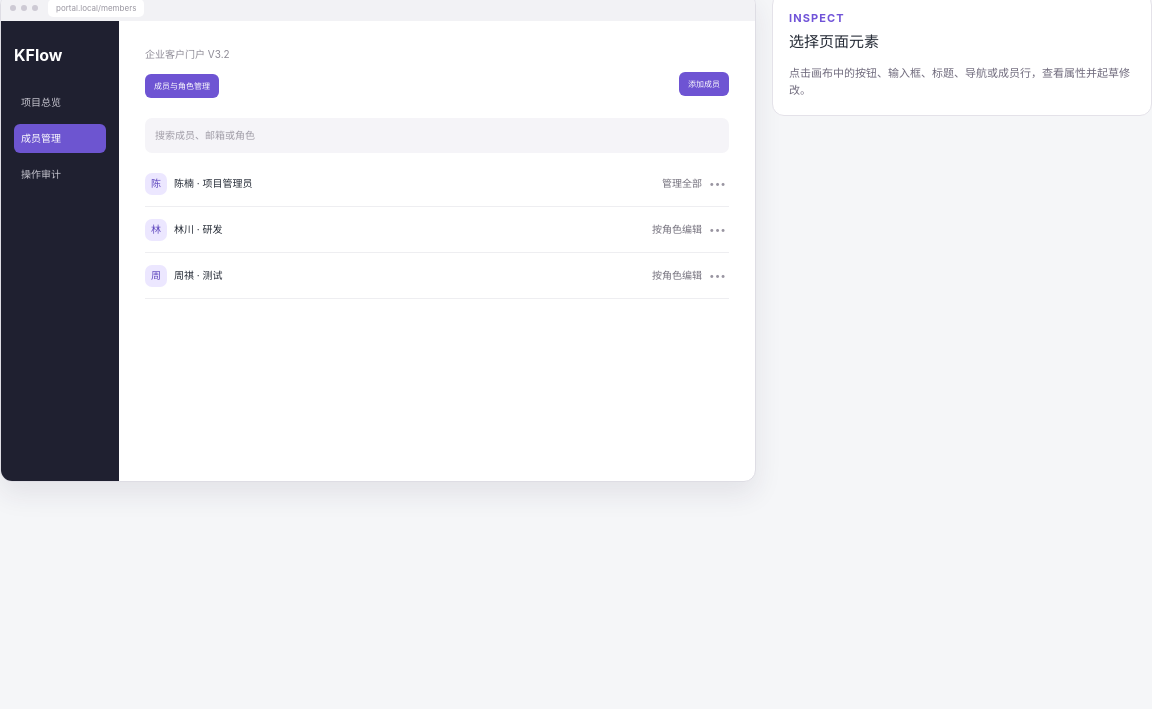
Test case: interprets natural-language tone, read-only, and quoted text changes
Step 1. Click the button with aria-label "选择添加成员按钮" → coordinates (704, 84), box [679,72,729,96]
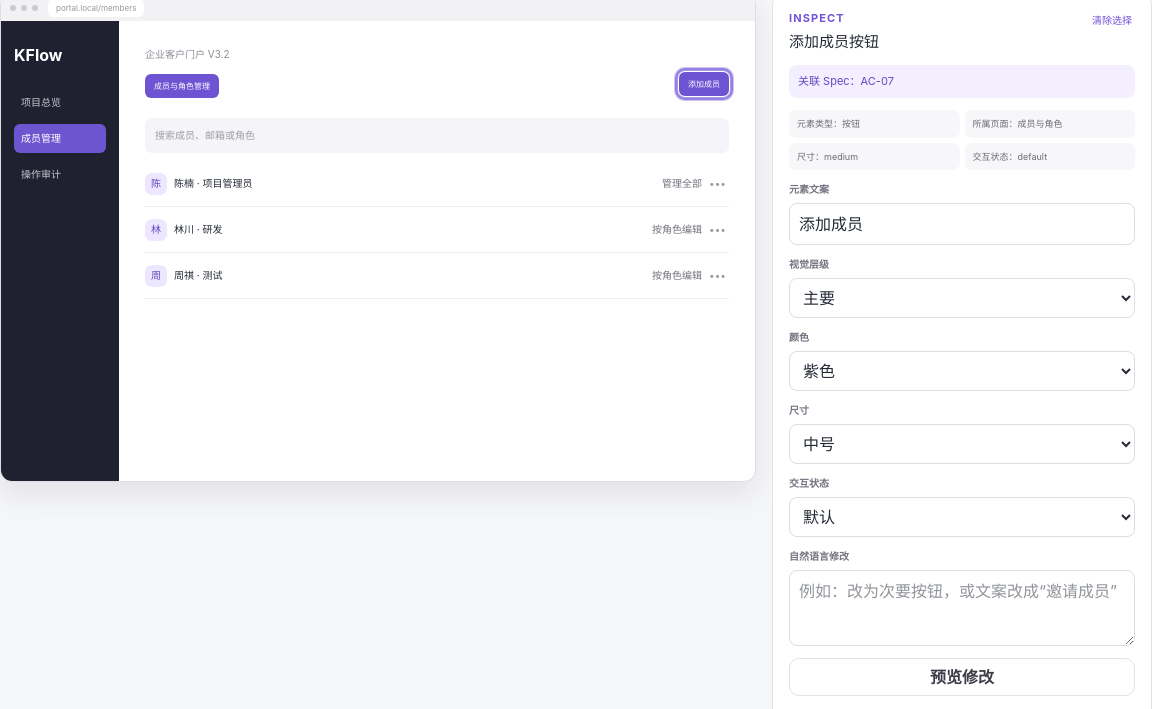
Step 2. Type "改为次要按钮，文案改成“邀请成员”" into the text box named "描述对选中元素的修改" → coordinates (962, 608), box [789,570,1135,646]
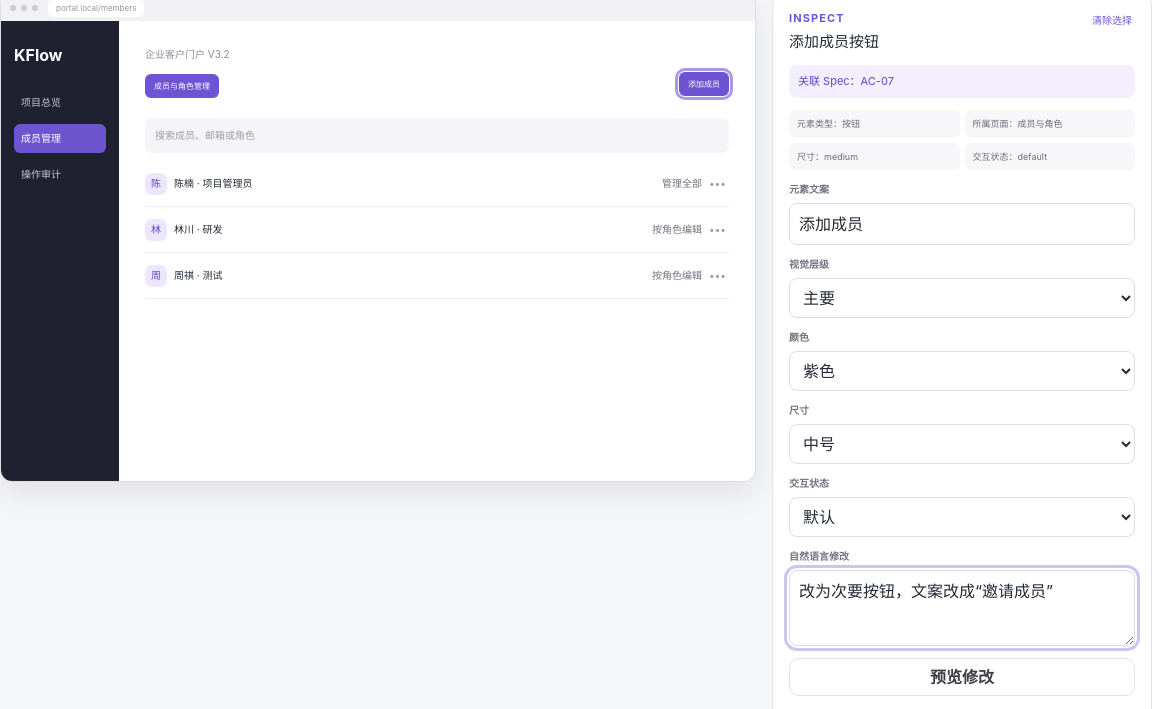
Step 3. Click the button "预览修改" → coordinates (962, 677), box [789,658,1135,696]
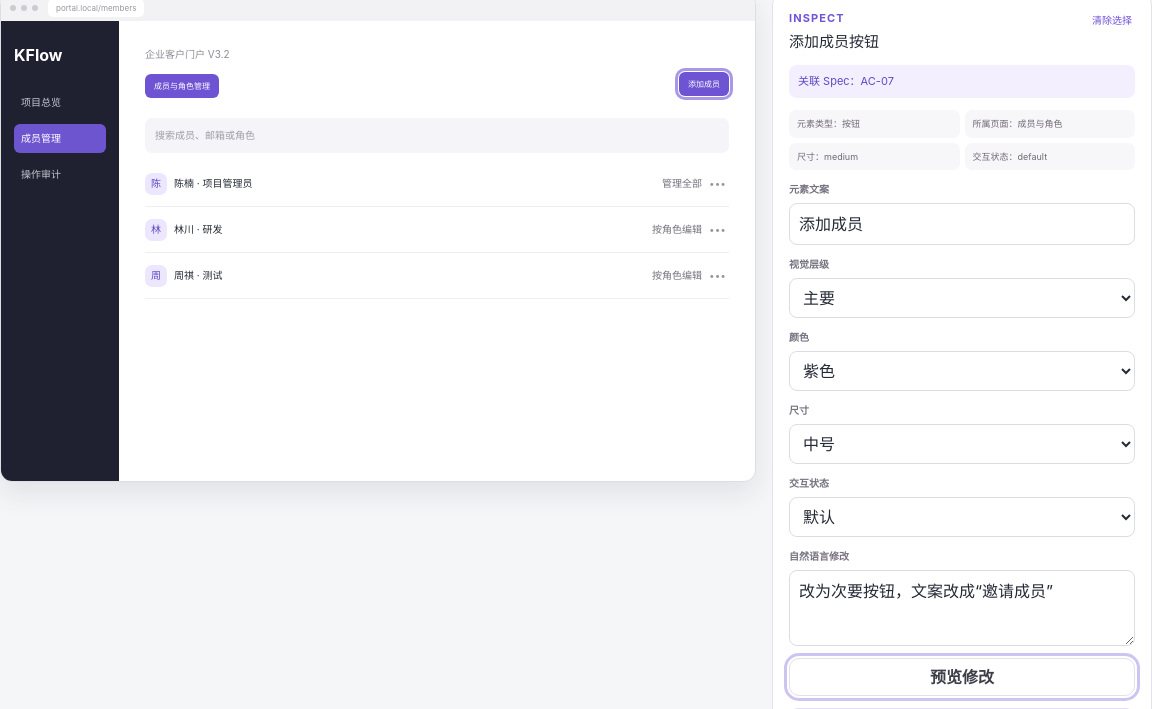
Step 4. Click the button with aria-label "选择林川成员行" → coordinates (198, 229), box [145,207,729,253]
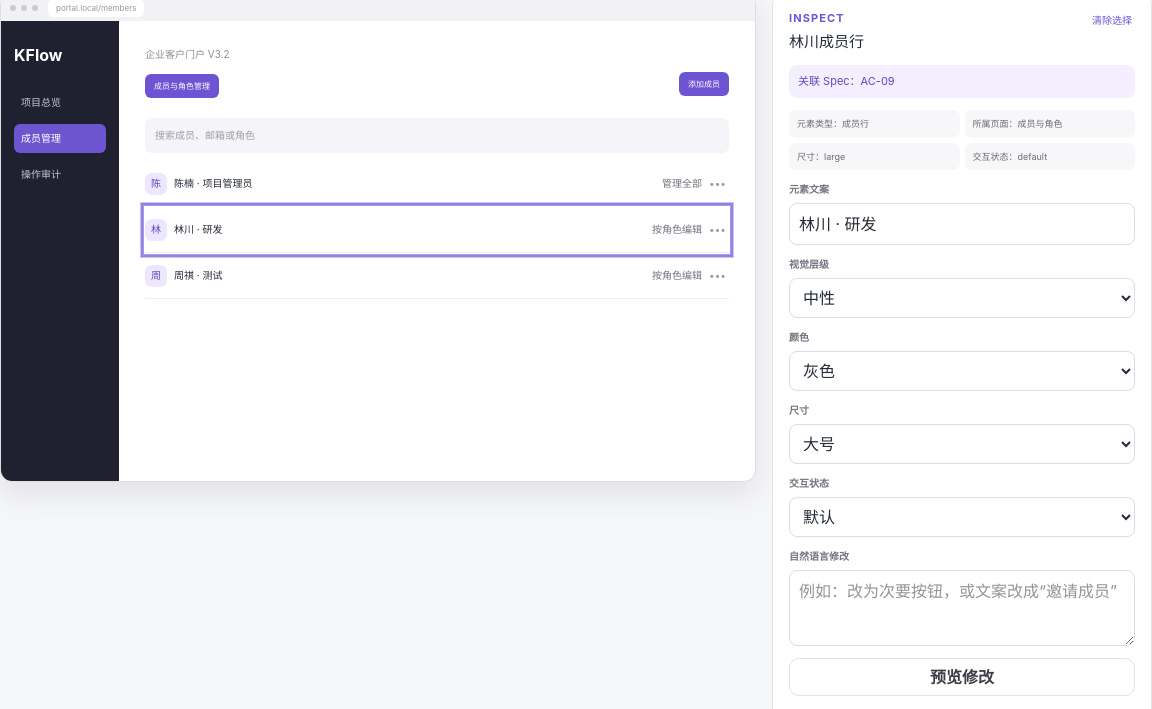
Step 5. Type "设为只读" into the text box named "描述对选中元素的修改" → coordinates (962, 608), box [789,570,1135,646]
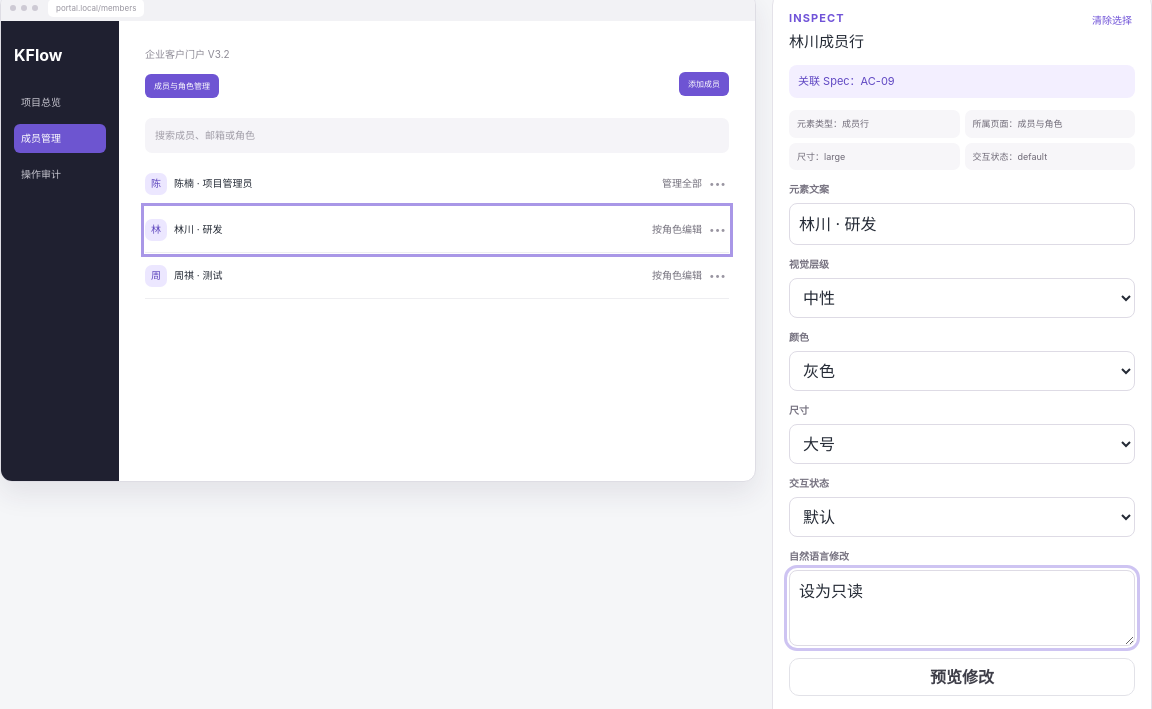
Step 6. Click the button "预览修改" → coordinates (962, 677), box [789,658,1135,696]
(page scrolled)
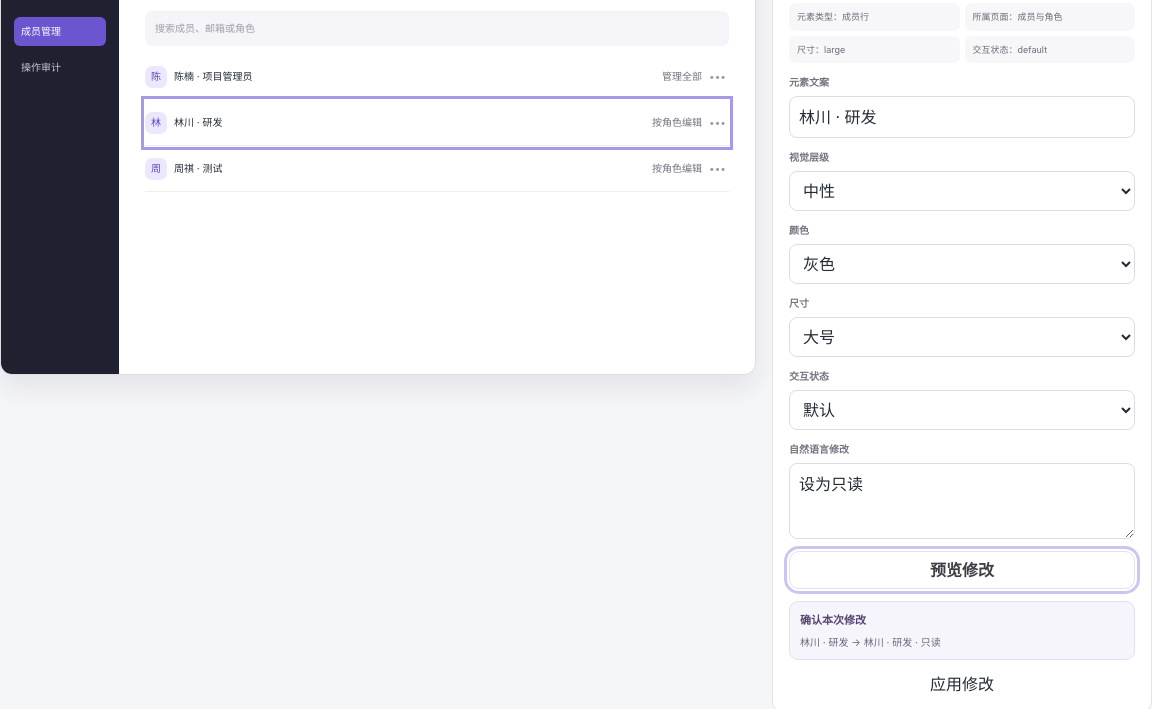
Expected: the text "林川 · 研发 → 林川 · 研发 · 只读" is shown, [800,636,941,648]
